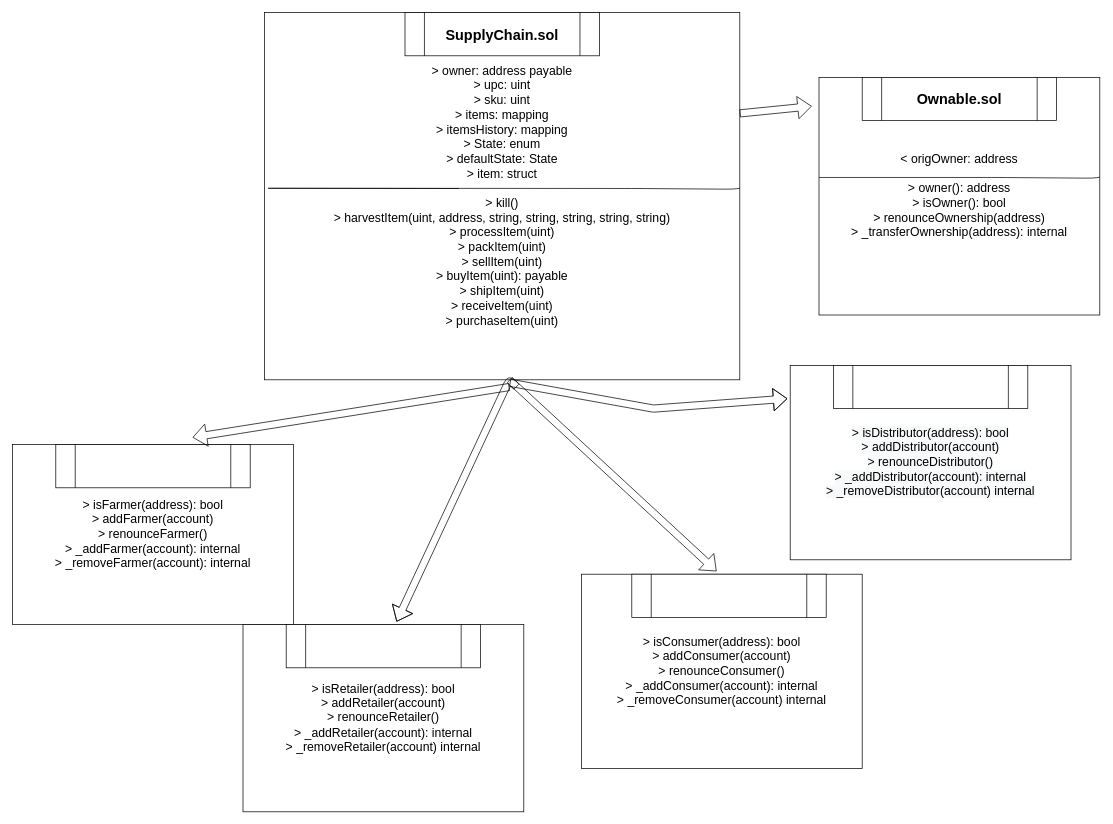
Image size: 1113x824. Some labels were removed from this diagram. Each missing label, with the centre of its shape:
"ConsumerRole.sol" goes at (728,595).
"DistributorRole.sol" goes at (930,387).
"FarmerRole.sol" goes at (152,466).
"RetailerRole.sol" goes at (383,646).
